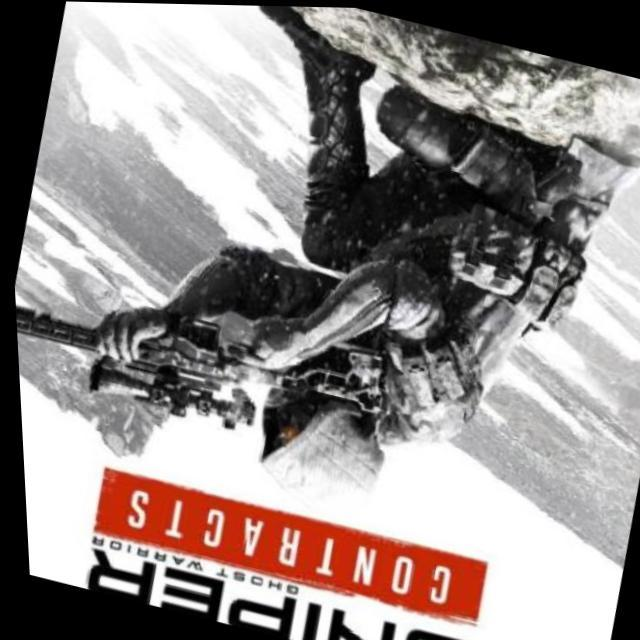weapon: (12, 285, 273, 446)
